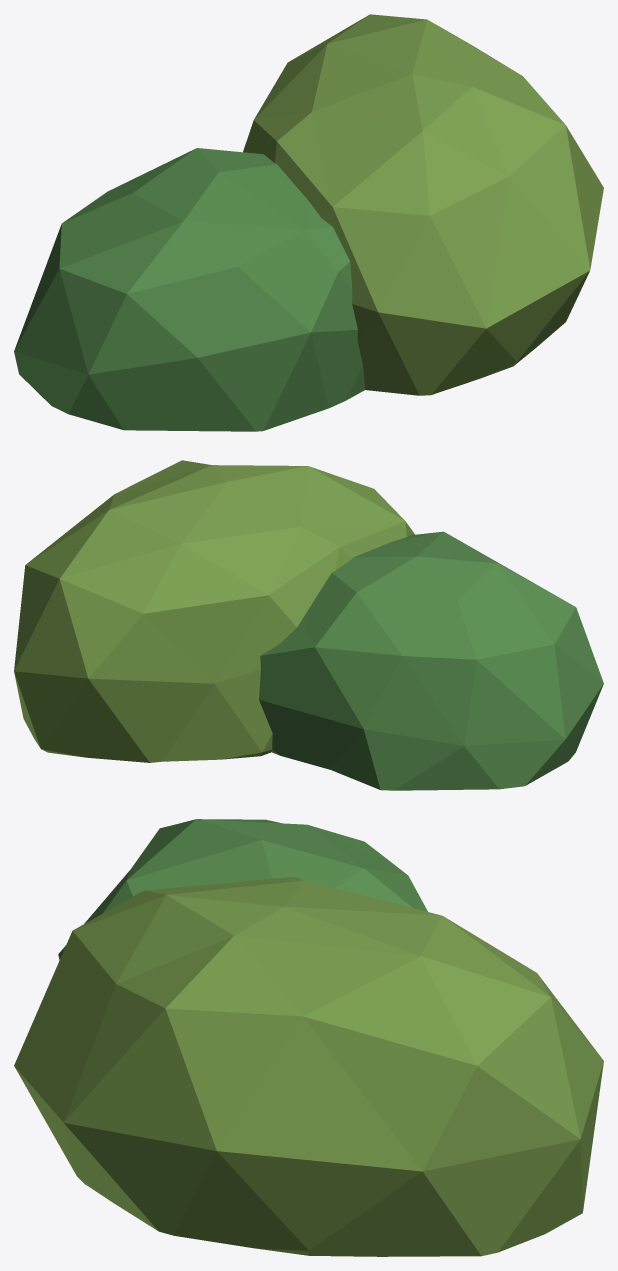
Rendered from bush3blank.glb.
3 renders of one model, top to bottom at view 1: azimuth 30°, elevation 25°; view 2: azimuth 150°, elevation 25°; view 3: azimuth 270°, elevation 25°, orthographic. The views are drawn at different scales.
Visible parts, largest first — view 1: bush, bush small; view 2: bush, bush small; view 3: bush, bush small.
Part boxes in pixels (x1,y1,x2,y2): bush: (243,14,603,395); bush small: (14,148,365,431); bush: (14,460,414,762); bush small: (259,531,603,790); bush: (14,877,603,1256); bush small: (58,819,427,960).
Bounding box in the file's own units: 2.78 × 1.1 × 2.19.
